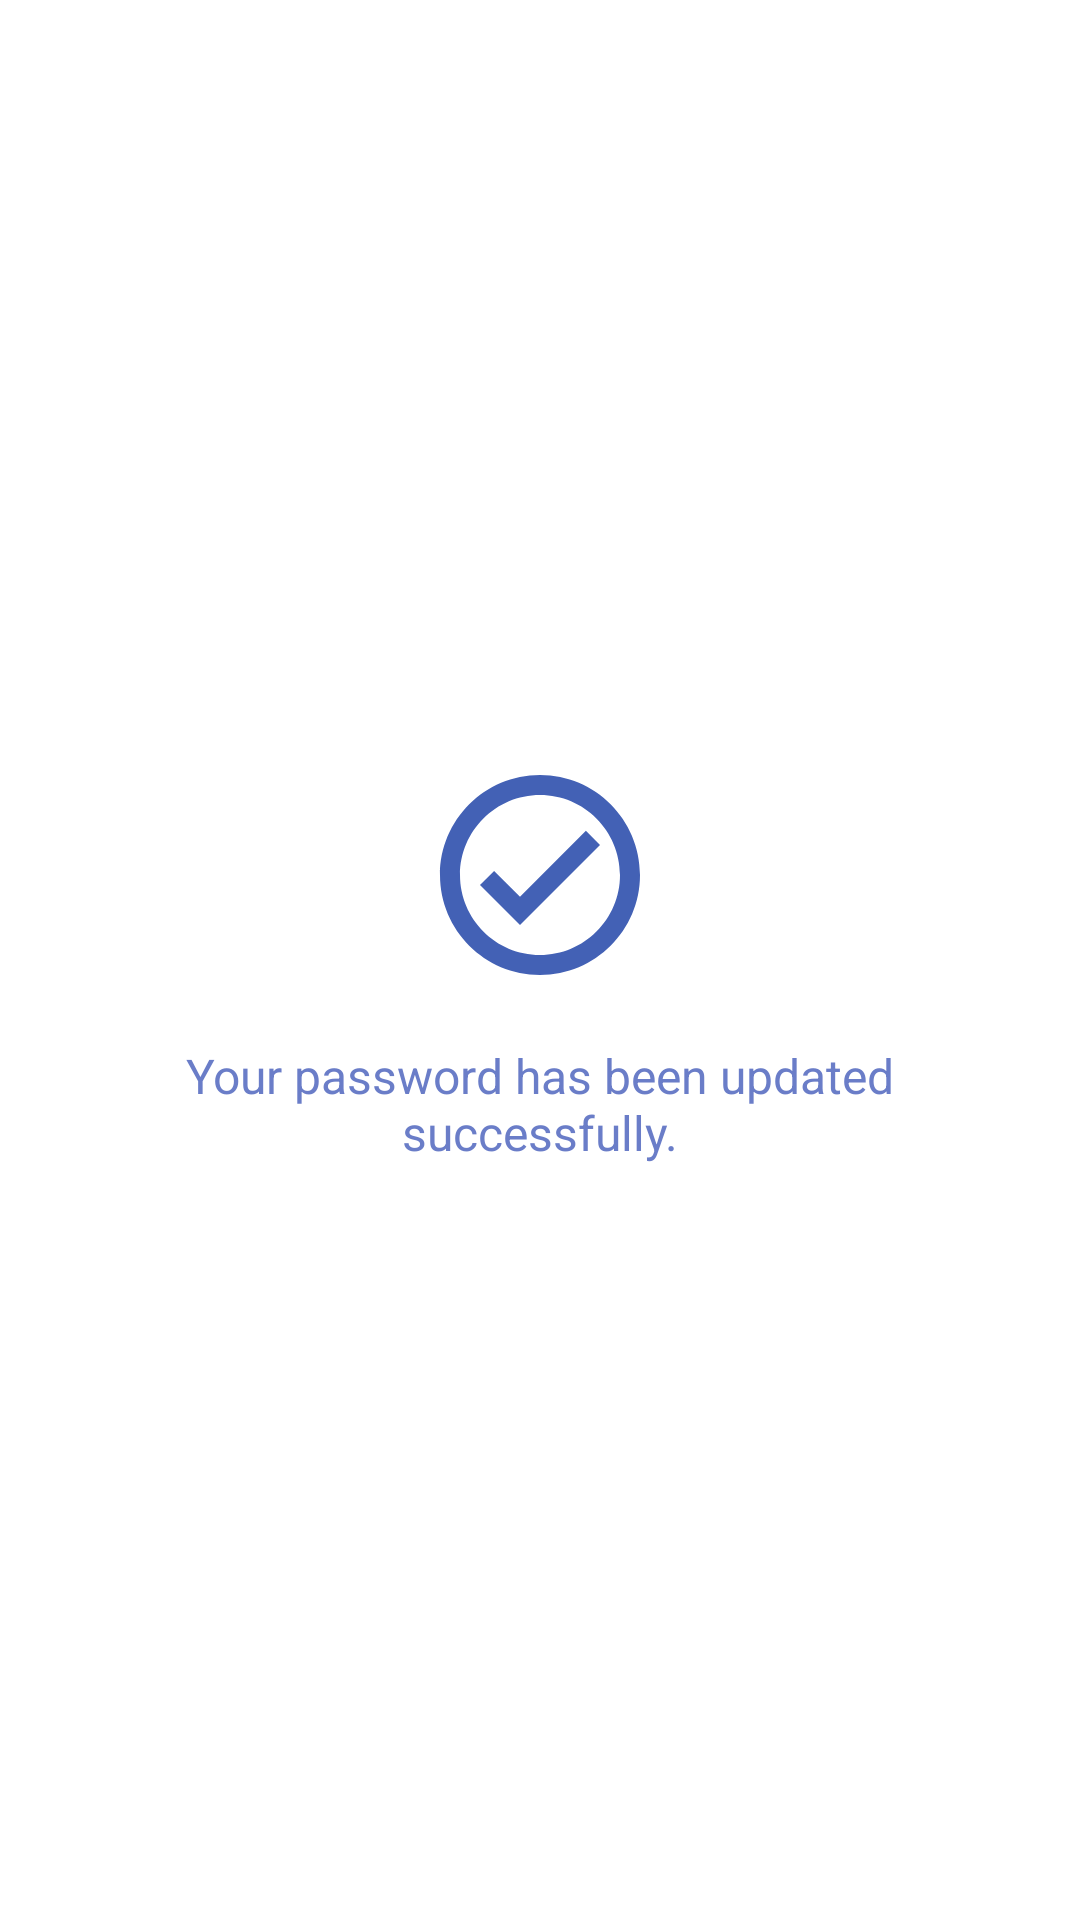

Screen size 1080 x 1920. Icon name, then its box in pixels as (x1, y1, x2, y2):
Success Icon: (440, 775, 640, 975)
